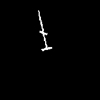double_crochet: (38, 11, 51, 50)
